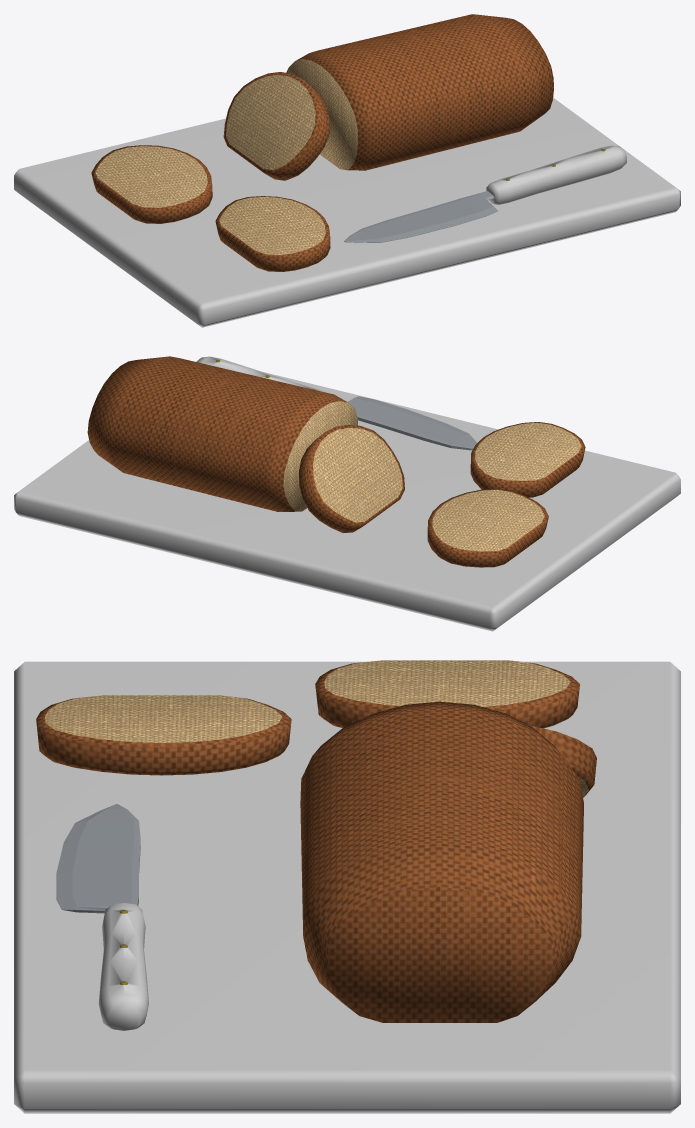
The model's file is K06_Bread_Board.fbx.
The picture shows the model from 3 angles, top to bottom: view 1: azimuth 30°, elevation 25°; view 2: azimuth 150°, elevation 25°; view 3: azimuth 270°, elevation 25°; orthographic projection. The views are drawn at different scales.
Parts seen in each view (by area): view 1: K06_Bread_Board; view 2: K06_Bread_Board; view 3: K06_Bread_Board.
Boxes of the visible parts, bbox=[...] form: K06_Bread_Board: bbox=[14, 14, 680, 327]; K06_Bread_Board: bbox=[14, 356, 680, 631]; K06_Bread_Board: bbox=[14, 660, 680, 1113].
Bounding box in the file's own units: 0.525 × 0.1262 × 0.355.
